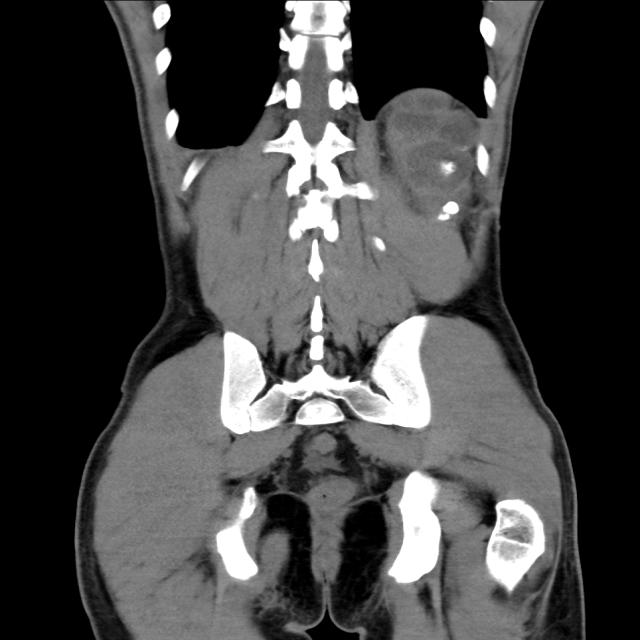kidneystone: (439, 201, 459, 219)
